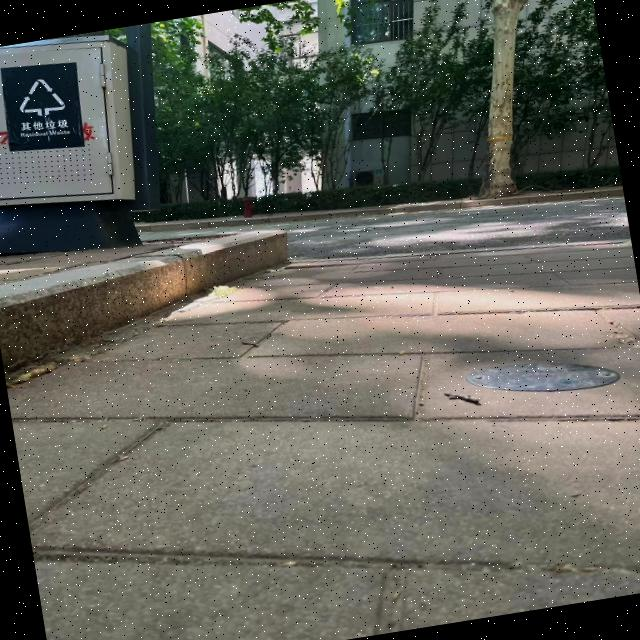curb: (1, 226, 305, 383)
